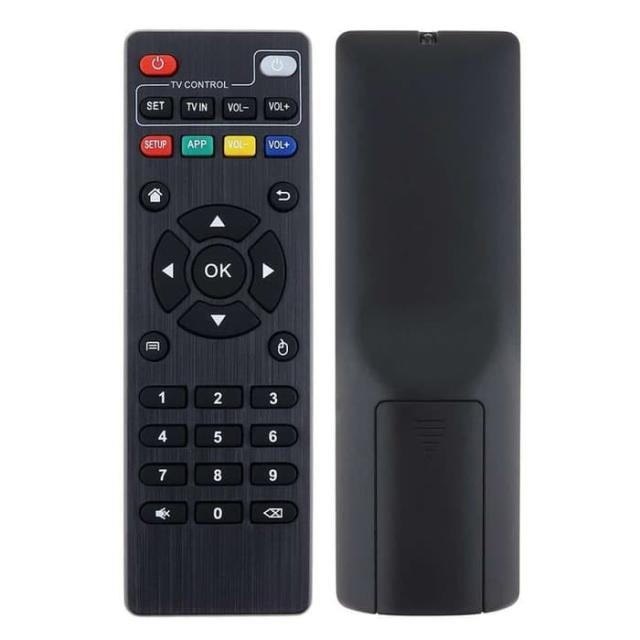remote: (123, 35, 313, 622), (338, 31, 521, 618)
